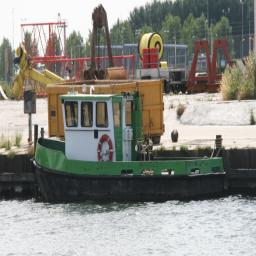tugboat: (30, 78, 228, 210)
